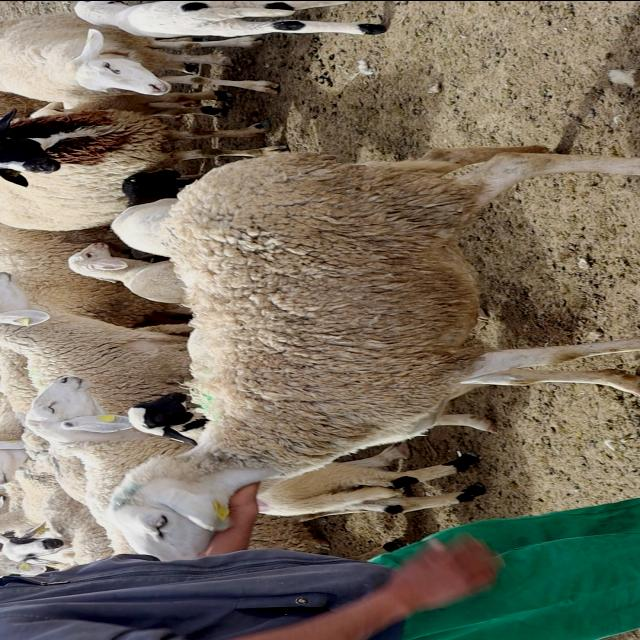Score_2: (107, 145, 639, 560)
